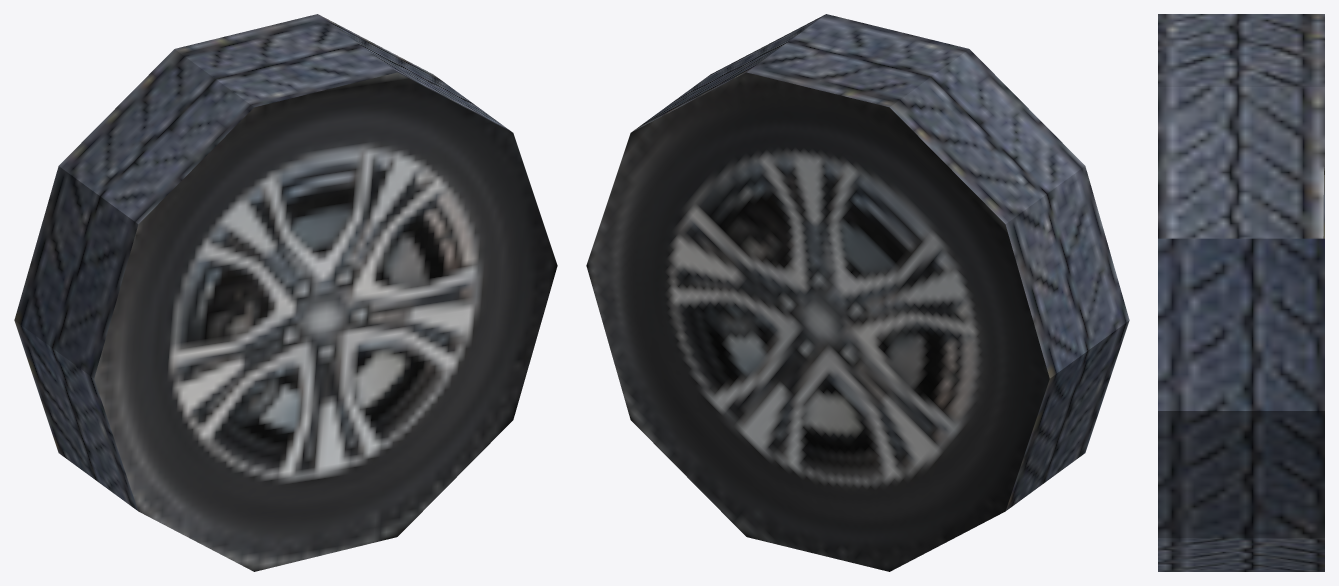
File: Roue2.fbx
3 views of the same model, side by side, from view 1: azimuth 30°, elevation 25°; view 2: azimuth 150°, elevation 25°; view 3: azimuth 270°, elevation 25° (orthographic). The views are drawn at different scales.
Parts seen in each view (by area): view 1: polySurface1; view 2: polySurface1; view 3: polySurface1.
Part boxes in pixels (x1,y1,x2,y2): polySurface1: (14,14,557,571); polySurface1: (586,14,1129,571); polySurface1: (1158,14,1324,571).
Bounding box in the file's own units: 0.3628 × 0.3475 × 0.1083.
